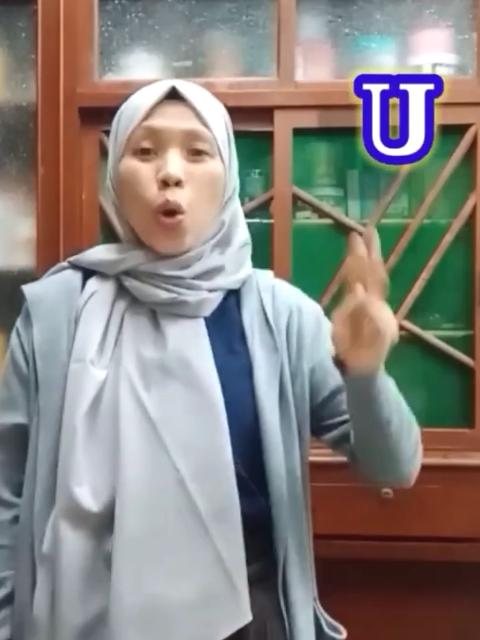U: (323, 218, 397, 372)
